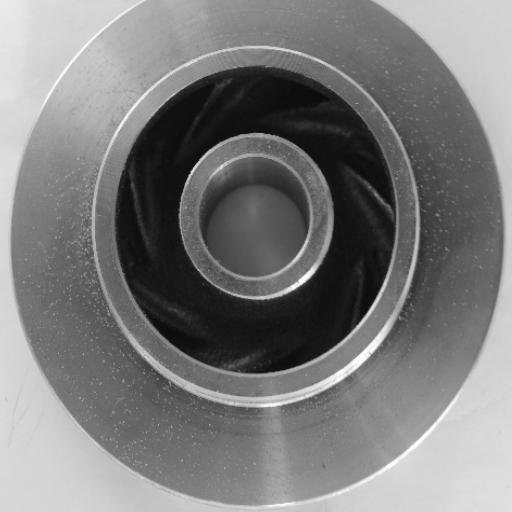polished_casting: (12, 0, 504, 508)
